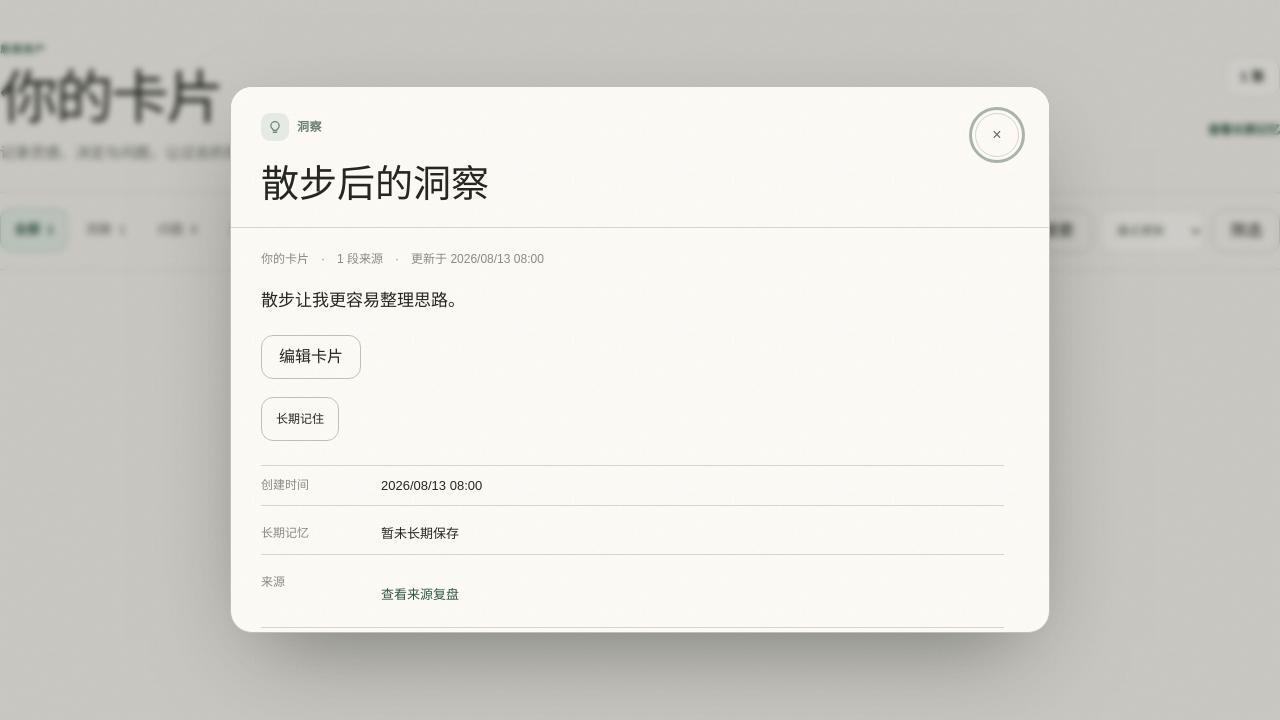
Test: DailyReflectionCardLibrary › reads and edits the card while its memory status is still pending
Expected: the text "散步让我更容易整理思路。" is shown, [261,291,465,310]
Click the button "编辑卡片".
click(311, 357)  # box [261,335,361,379]
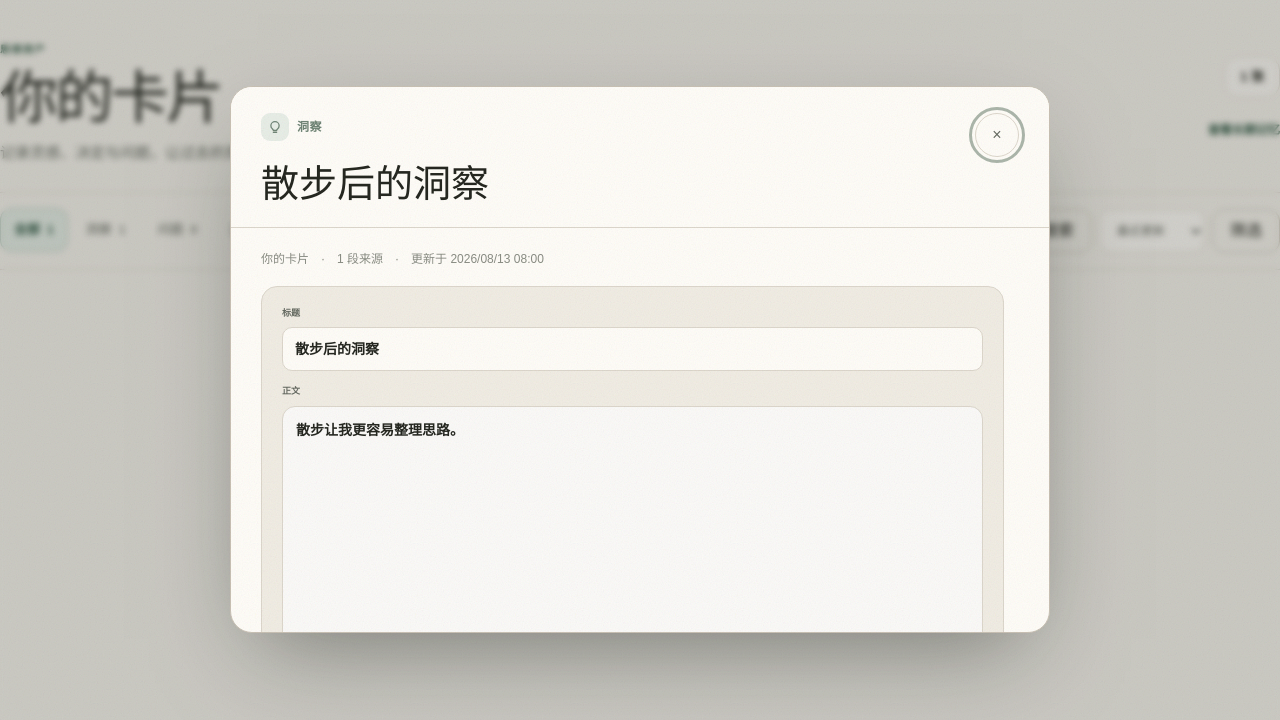
Result: the text box showing "散步让我更容易整理思路。" is shown at [282,406,983,633]
